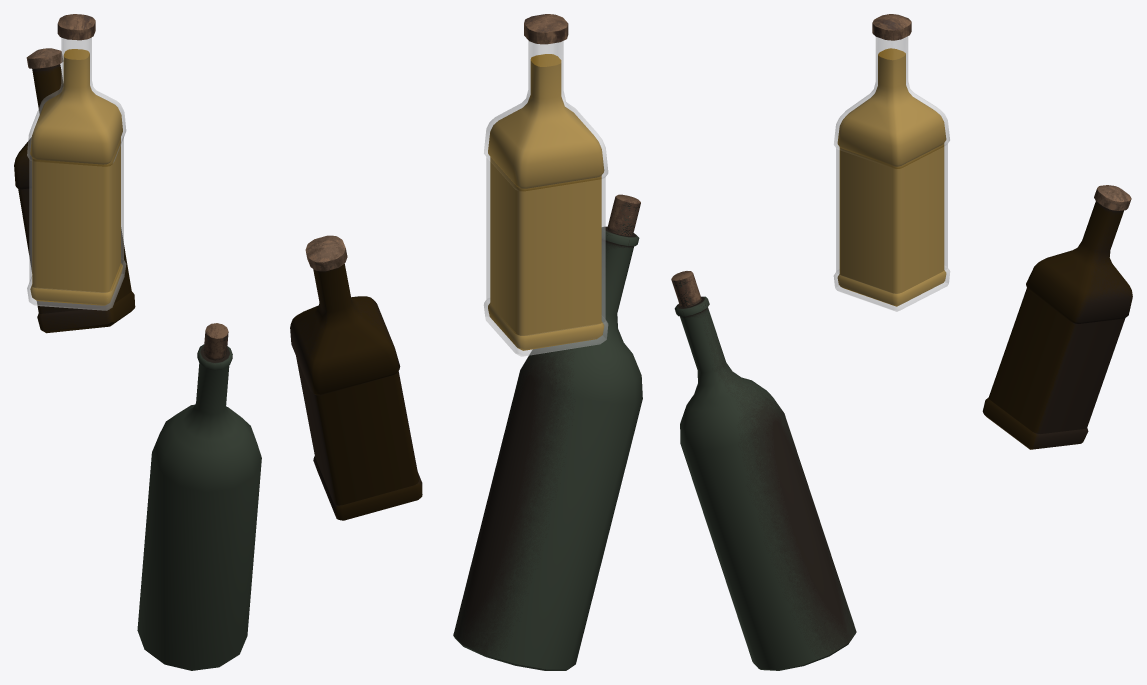
Rendered from basurero-verde.glb.
3 renders of one model, left to right at view 1: azimuth 30°, elevation 25°; view 2: azimuth 150°, elevation 25°; view 3: azimuth 270°, elevation 25°, orthographic. The views are drawn at different scales.
Parts seen in each view (by area): view 1: Whiskey; view 2: Whiskey; view 3: Whiskey.
Part boxes in pixels (left/top/right/bottom): Whiskey: left=14, top=14, right=261, bottom=670; Whiskey: left=290, top=14, right=642, bottom=670; Whiskey: left=671, top=14, right=1132, bottom=670.
Size of the model in its own units: 0.7222 by 2.36 by 1.62.
Materials: 3 (3 with a texture image).
